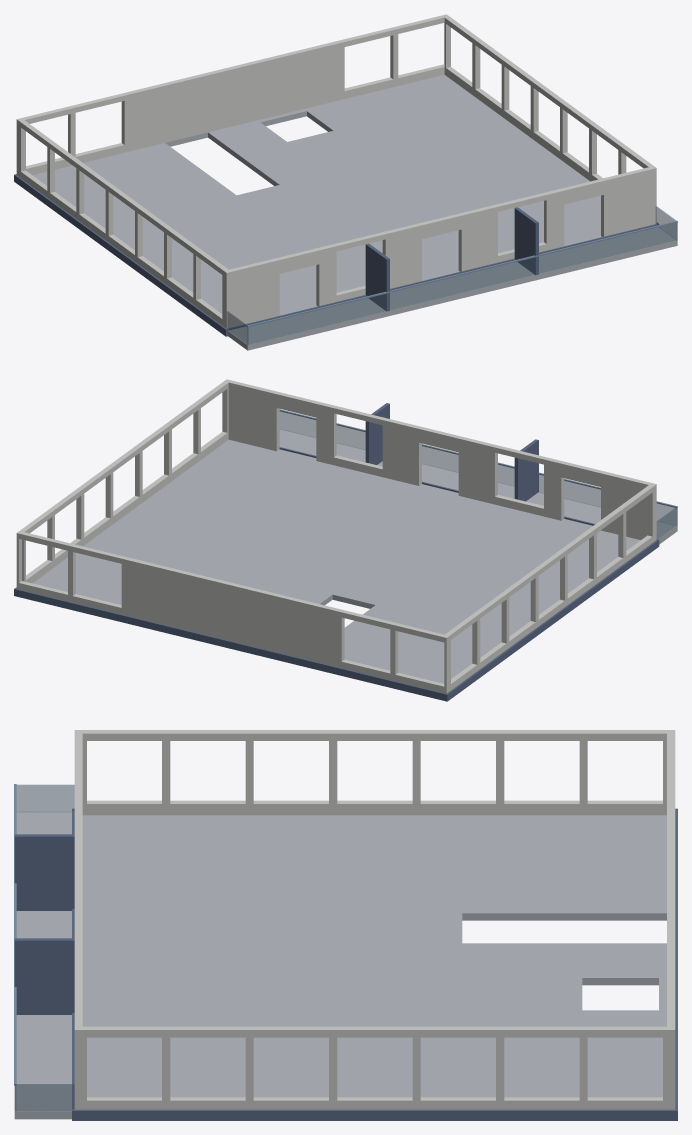
Rendered from office-floor.glass-v1.lod1.glb.
The picture shows the model from 3 angles, top to bottom: view 1: azimuth 30°, elevation 25°; view 2: azimuth 150°, elevation 25°; view 3: azimuth 270°, elevation 25°; orthographic projection. The views are drawn at different scales.
Visible parts, largest first — view 1: office-floor; view 2: office-floor; view 3: office-floor.
Part boxes in pixels (box(x1,y1,x2,y2)): office-floor: box(14, 14, 677, 350); office-floor: box(14, 379, 677, 701); office-floor: box(14, 730, 677, 1120).
Size of the model in its own units: 26.2 by 3.62 by 24.32.
